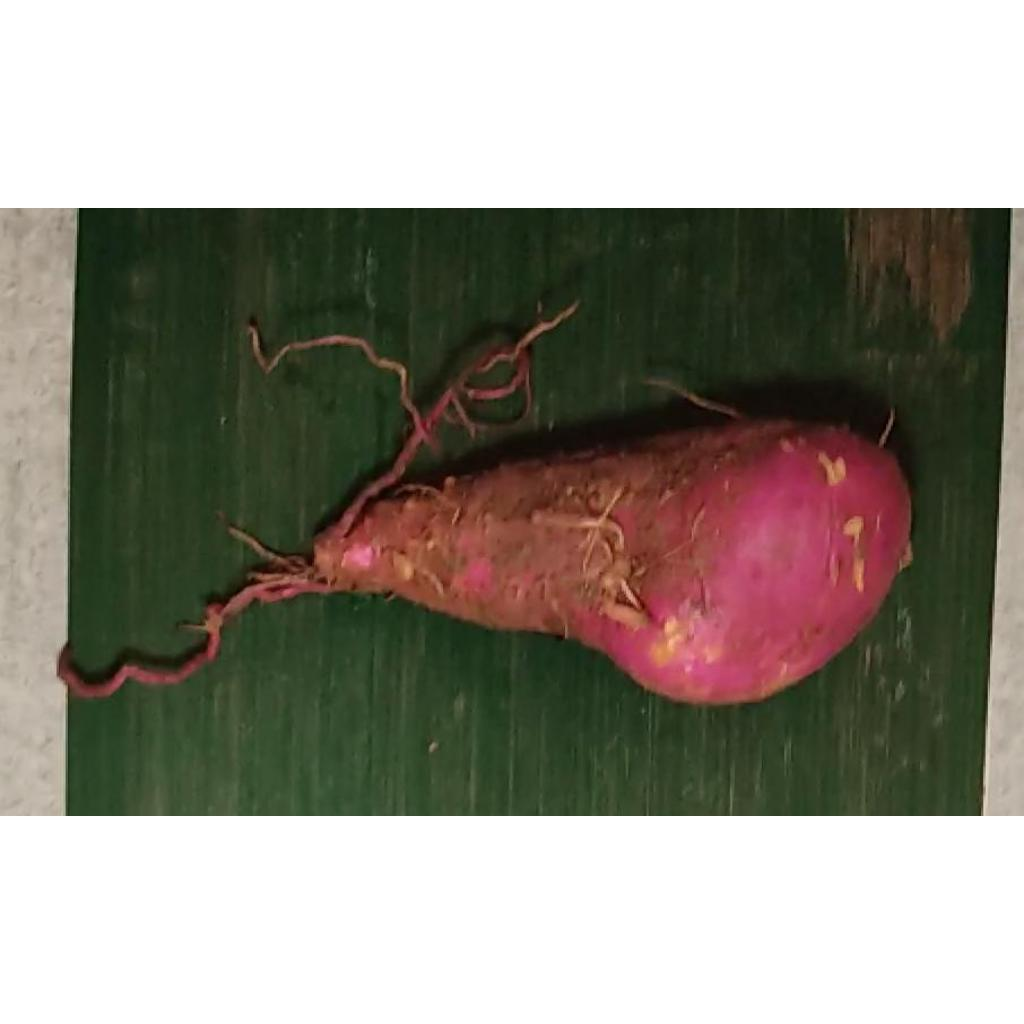Sweet Potato: (216, 419, 912, 709)
